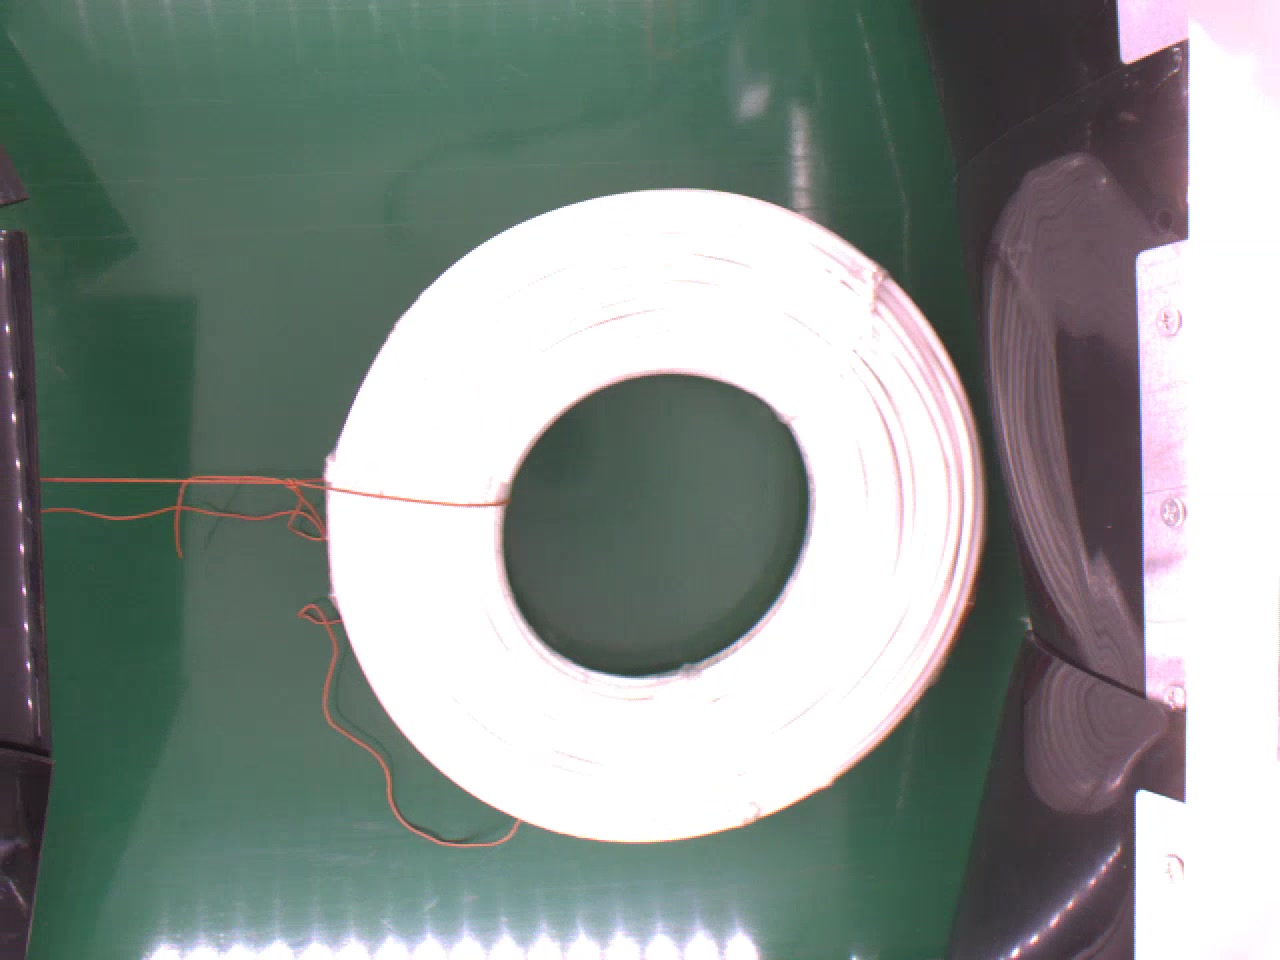white: (323, 189, 1005, 854)
